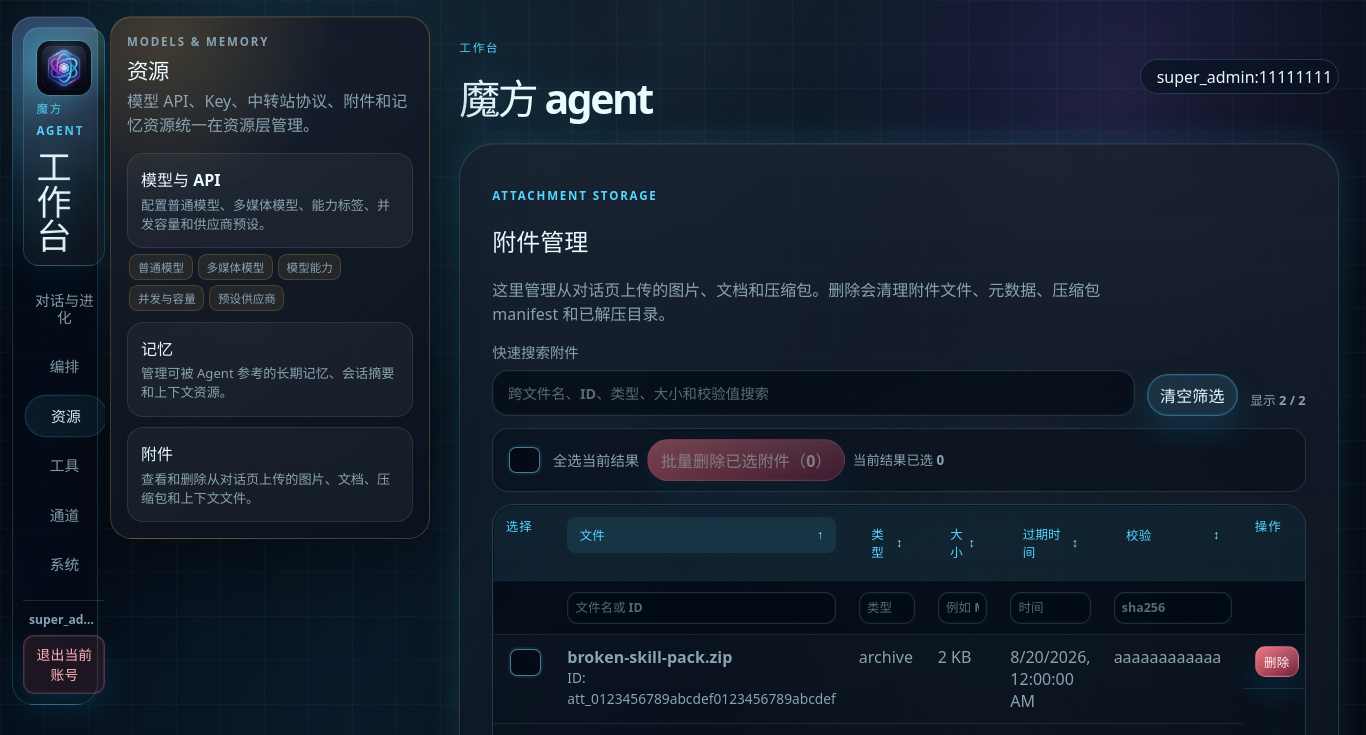
Test: AttachmentsPage › clears the bulk selection when select all is clicked again
Expected: the button "批量删除已选附件（0）" is disabled, [647,439,845,481]
Click the checkbox named "全选当前附件结果" at (524, 460), box [509,446,540,473]
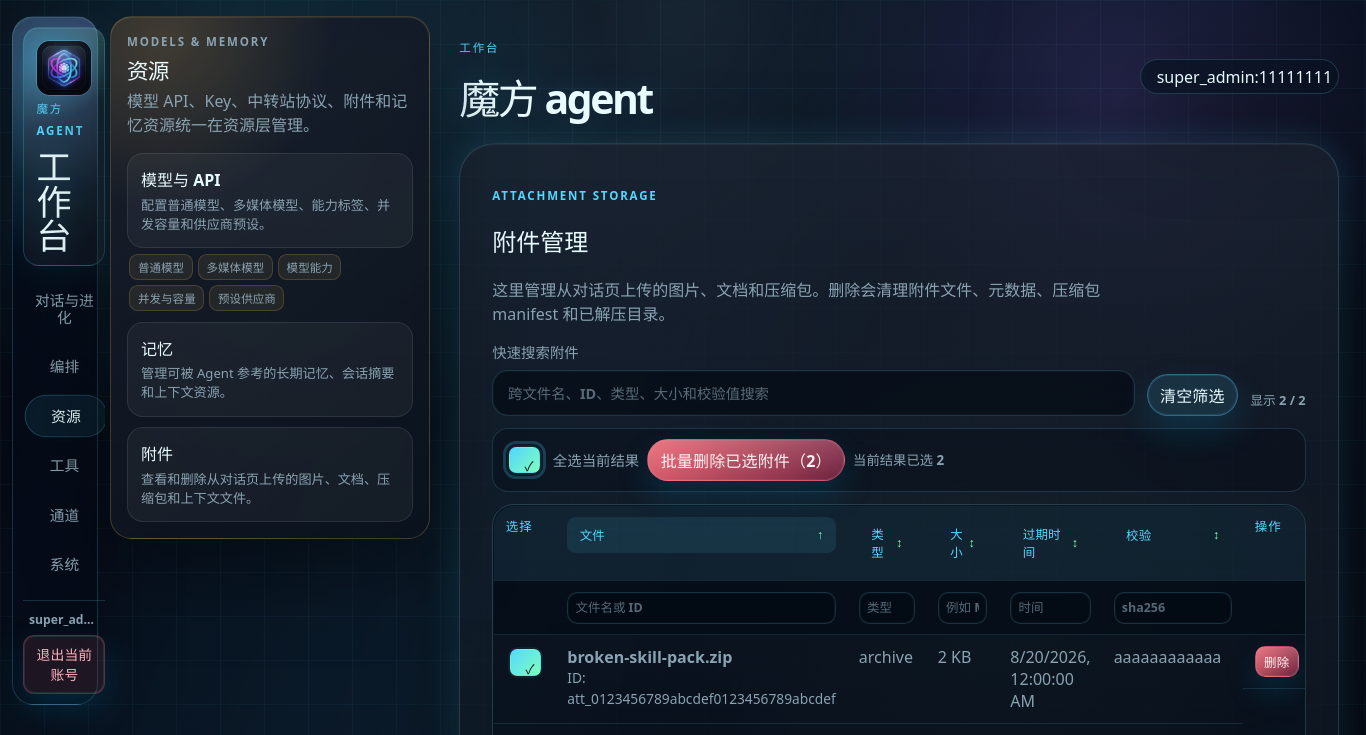
Result: the text "当前结果已选 2" is shown at [853,450,944,470]
Result: the button "批量删除已选附件（2）" is enabled at [647,439,845,481]
Click the checkbox named "全选当前附件结果" at (524, 460), box [509,446,540,473]
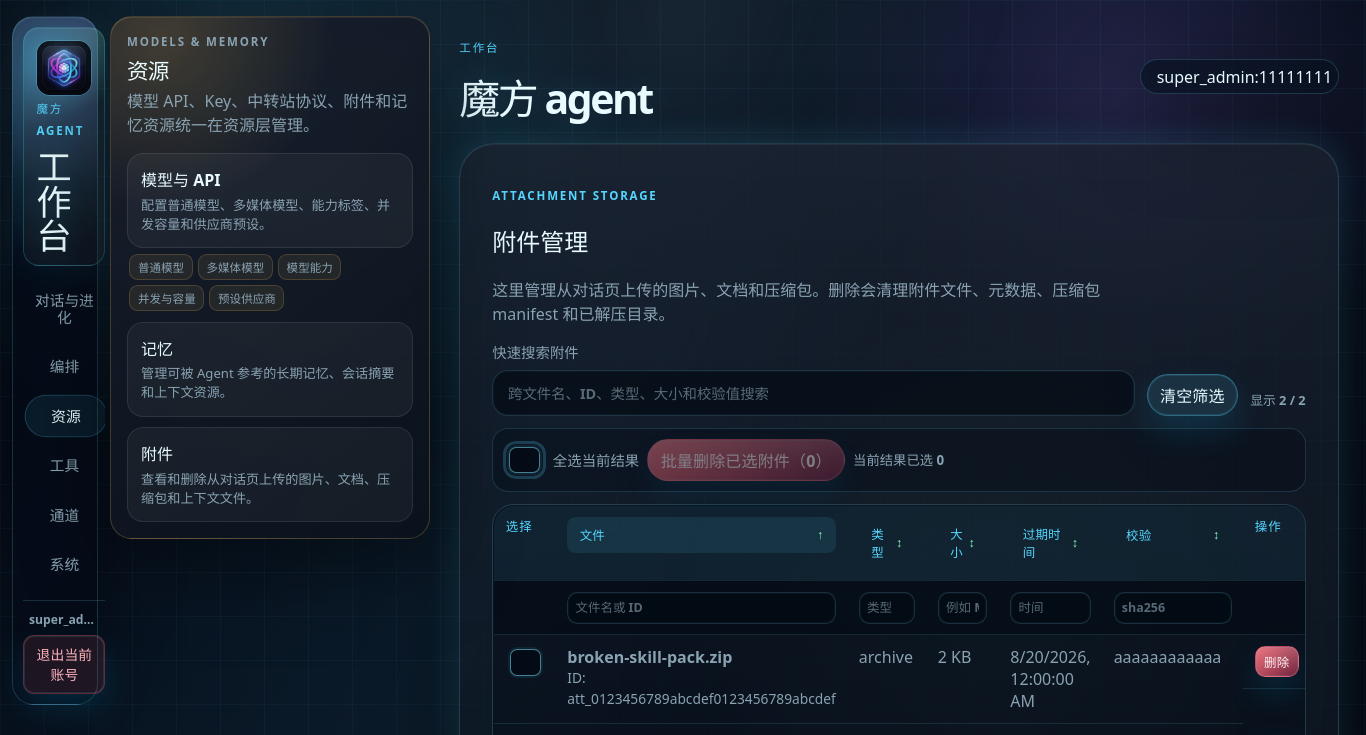
Result: the text "当前结果已选 0" is shown at [853,450,944,470]
Result: the button "批量删除已选附件（0）" is disabled at [647,439,845,481]
